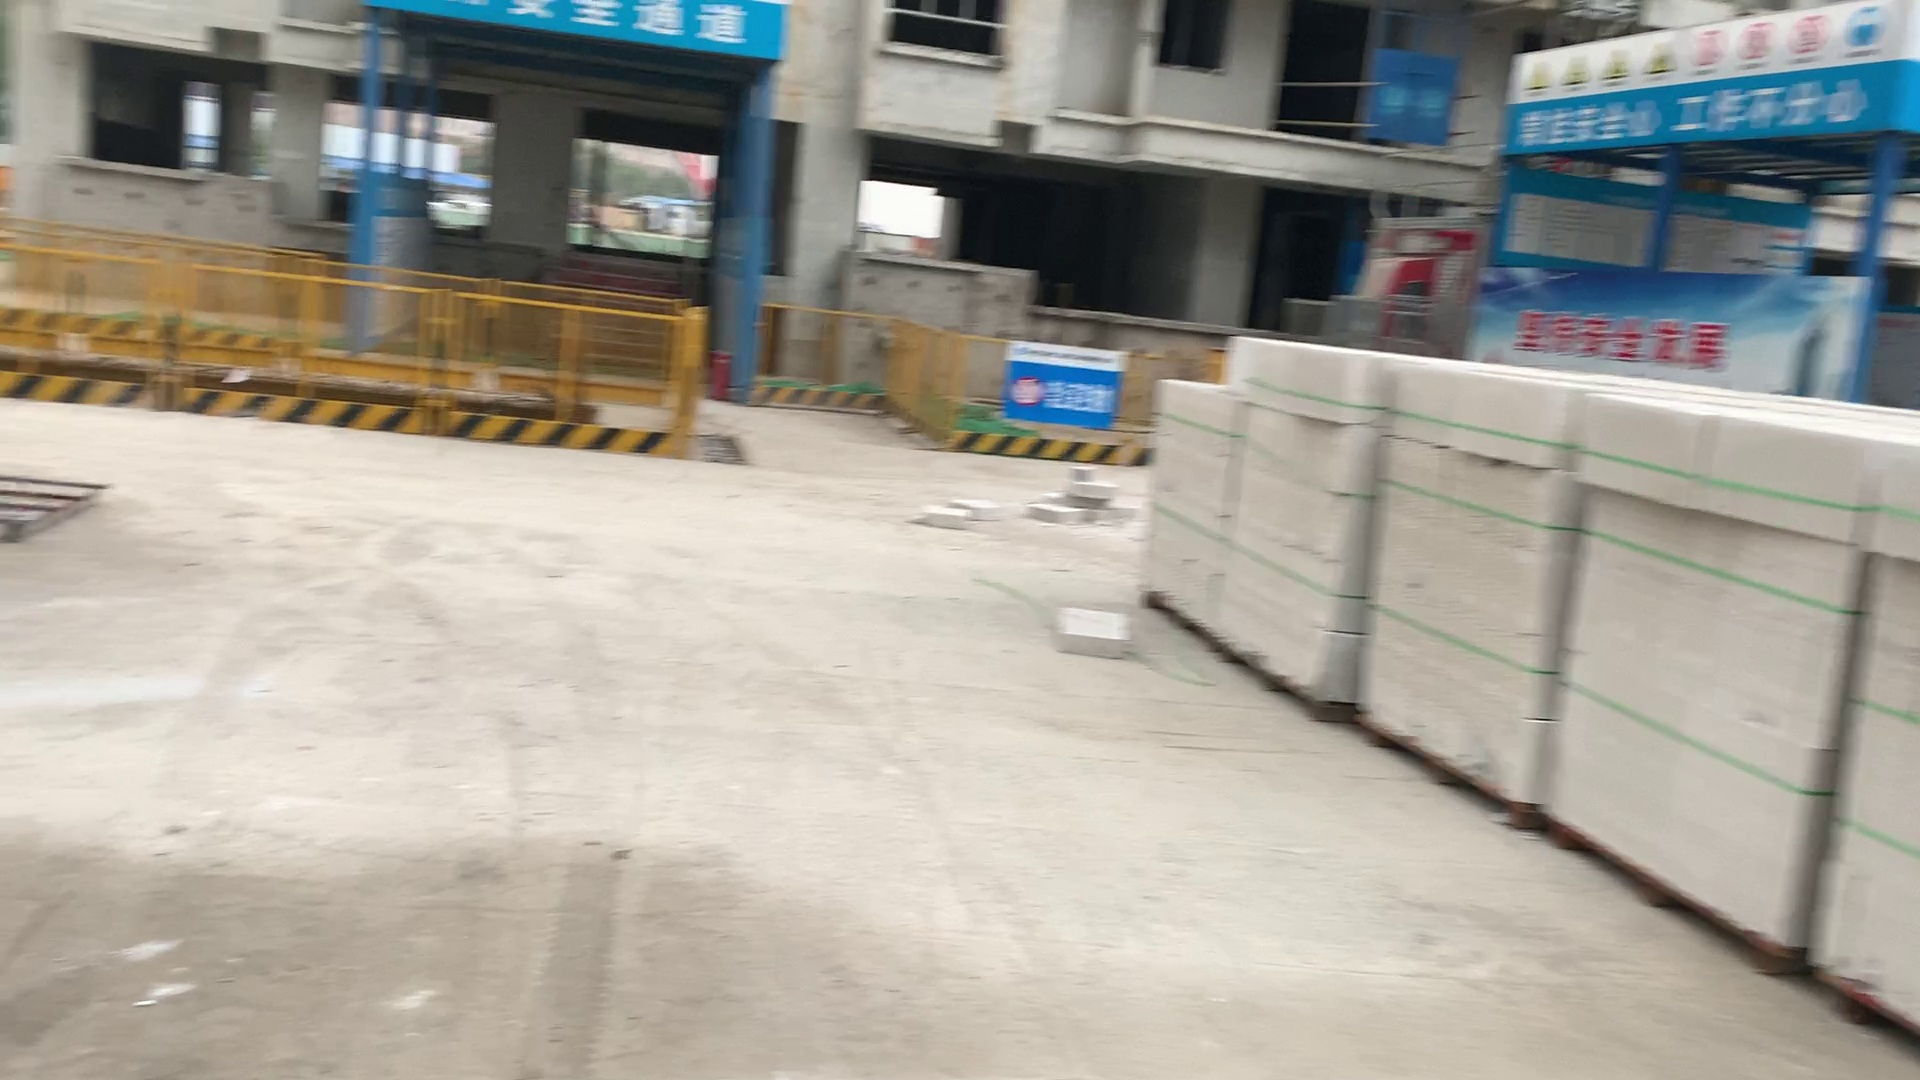brickwork: (1571, 376, 1845, 967), (1783, 430, 1920, 1062), (1375, 356, 1547, 840), (1212, 320, 1358, 727), (1135, 368, 1225, 622)
